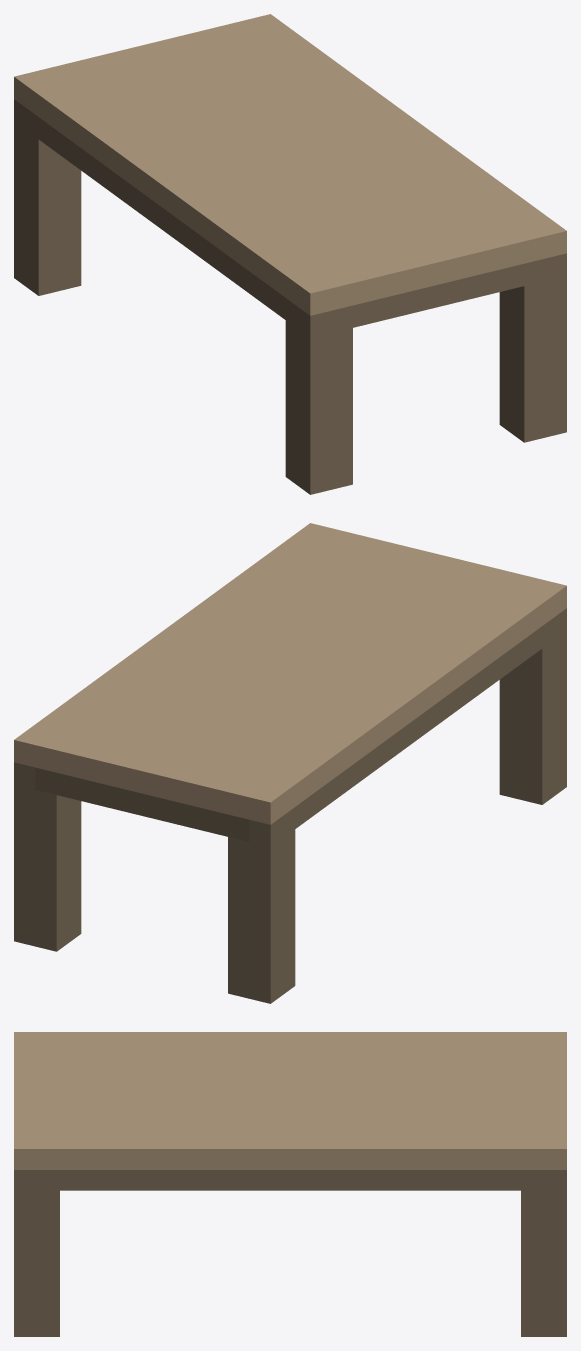
The model's file is escritorio_desgastada_01.glb.
3 views of the same model, one above another, from view 1: azimuth 30°, elevation 25°; view 2: azimuth 150°, elevation 25°; view 3: azimuth 270°, elevation 25° (orthographic). The views are drawn at different scales.
Visible parts, largest first — view 1: escritorio_desgastada; view 2: escritorio_desgastada; view 3: escritorio_desgastada.
Part boxes in pixels (left/top/right/bottom): escritorio_desgastada: left=14, top=14, right=566, bottom=494; escritorio_desgastada: left=14, top=523, right=566, bottom=1003; escritorio_desgastada: left=14, top=1032, right=566, bottom=1336.
Bounding box in the file's own units: 1 × 0.75 × 2.
